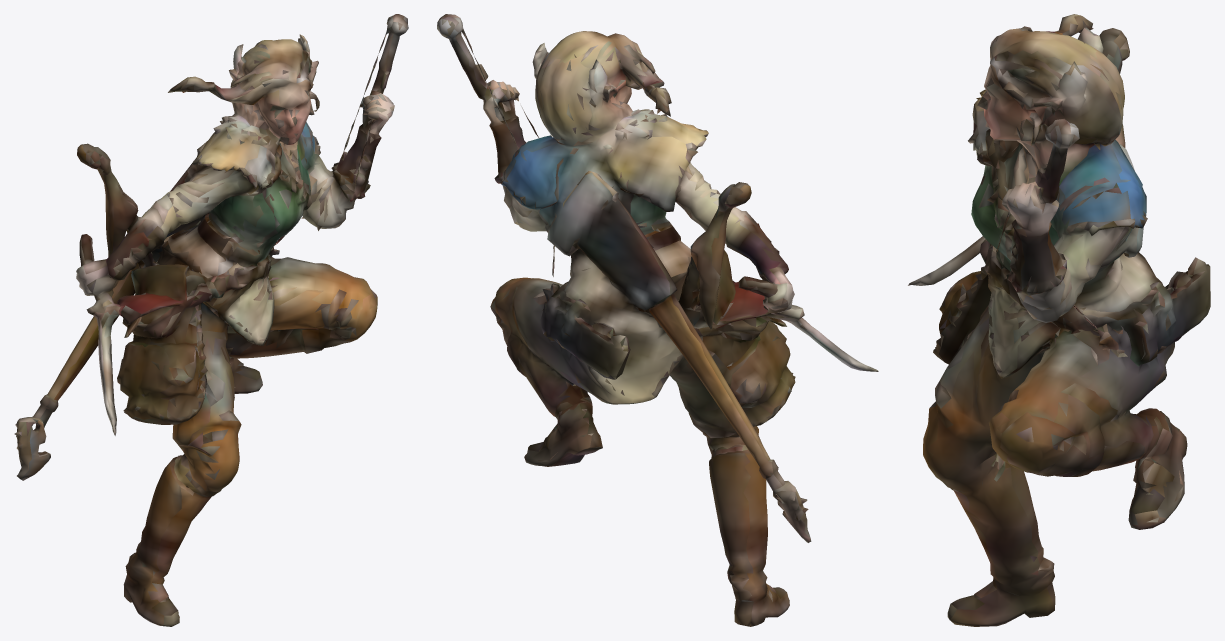
Rendered from Nurah_final.glb.
3 renders of one model, left to right at view 1: azimuth 30°, elevation 25°; view 2: azimuth 150°, elevation 25°; view 3: azimuth 270°, elevation 25°, orthographic. The views are drawn at different scales.
Parts seen in each view (by area): view 1: Mesh_0; view 2: Mesh_0; view 3: Mesh_0.
Part boxes in pixels (left/top/right/bottom): Mesh_0: left=14, top=14, right=408, bottom=626; Mesh_0: left=437, top=14, right=878, bottom=626; Mesh_0: left=908, top=14, right=1210, bottom=626.
Bounding box in the file's own units: 0.9591 × 1.3 × 0.5246.
Materials: 1 (1 with a texture image).
